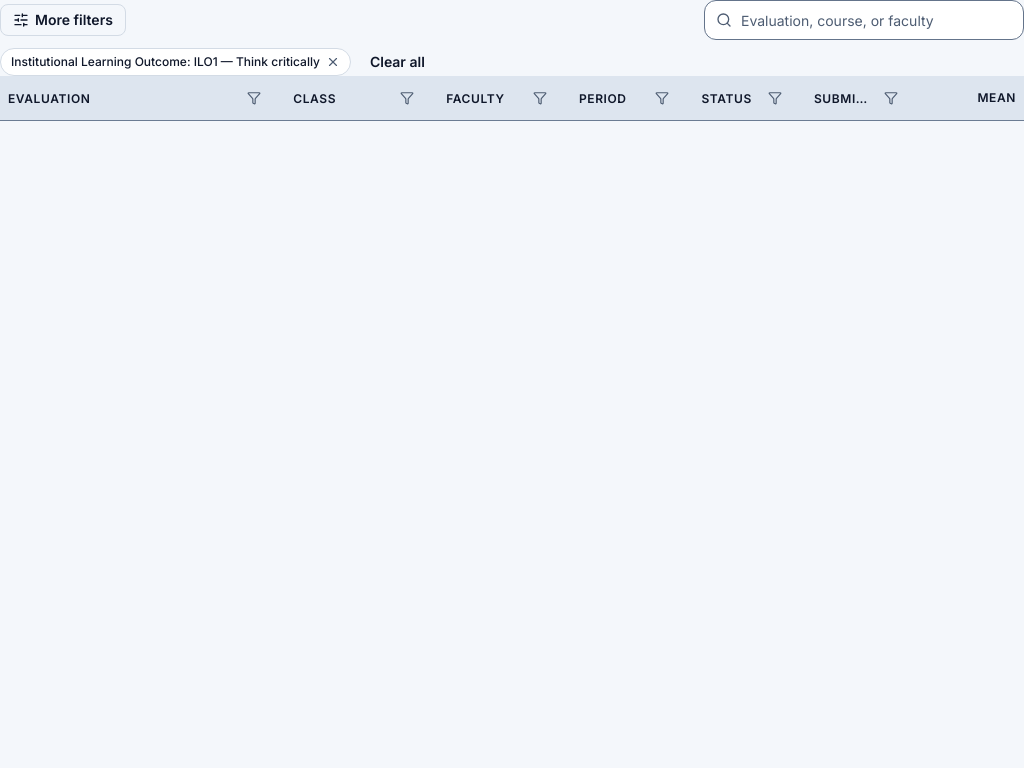
Test: GeneralEducationResponsesFilters › keeps the ILO filter reachable from the toolbar even though no column owns it
This screenshot has width=1024, height=768.
Expected: the button named "Remove filter Institutional Learning Outcome: ILO1 — Think critically" is shown, [0, 48, 351, 76]
Click the button "More filters" at (63, 20), box [0, 4, 126, 36]
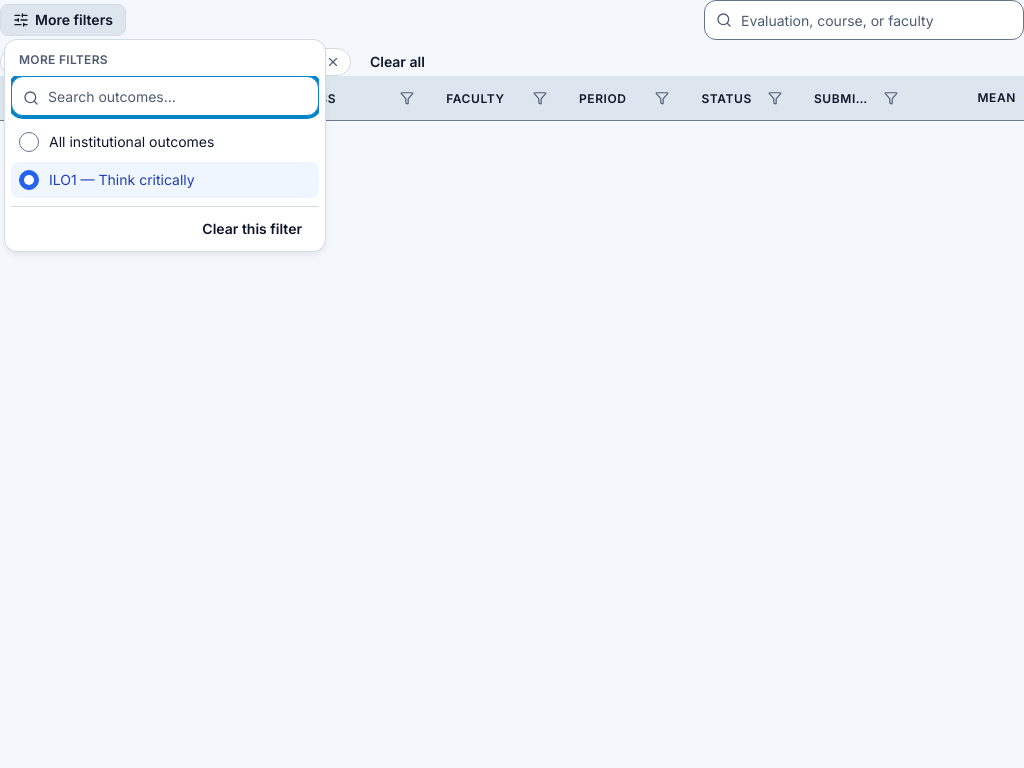
Expected: the 2nd radio button named "ILO1 — Think critically" is shown, [19, 170, 39, 190]
